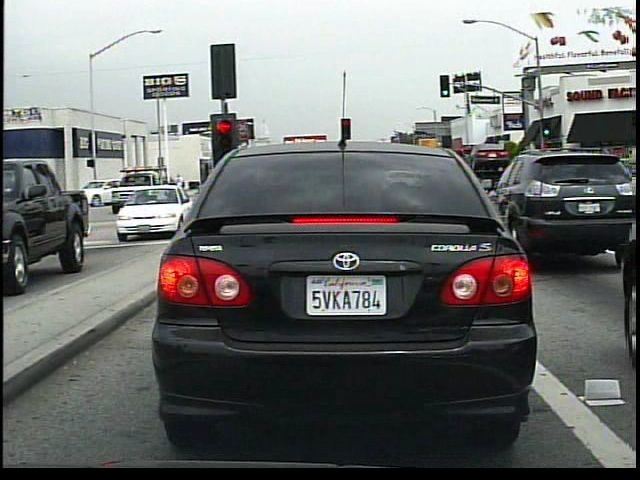person: (171, 168, 192, 193)
